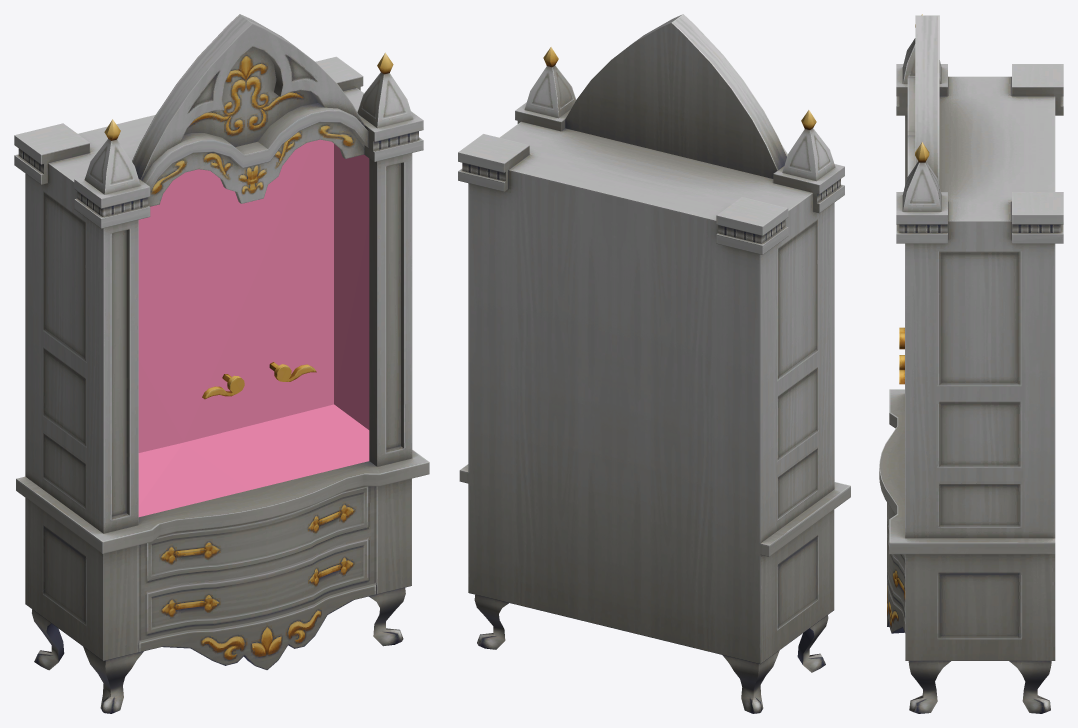
3 views of the same model, side by side, from view 1: azimuth 30°, elevation 25°; view 2: azimuth 150°, elevation 25°; view 3: azimuth 270°, elevation 25° (orthographic). The views are drawn at different scales.
Parts seen in each view (by area): view 1: s4studio_mesh_0, s4studio_mesh_0.002; view 2: s4studio_mesh_0; view 3: s4studio_mesh_0.
Boxes of the visible parts, bbox=[...] form: s4studio_mesh_0: bbox=[14, 14, 429, 713]; s4studio_mesh_0.002: bbox=[138, 139, 369, 516]; s4studio_mesh_0: bbox=[458, 14, 850, 713]; s4studio_mesh_0: bbox=[879, 14, 1063, 713].
Bounding box in the file's own units: 1.44 × 2.75 × 0.7294.
Materials: 2 (2 with a texture image).
